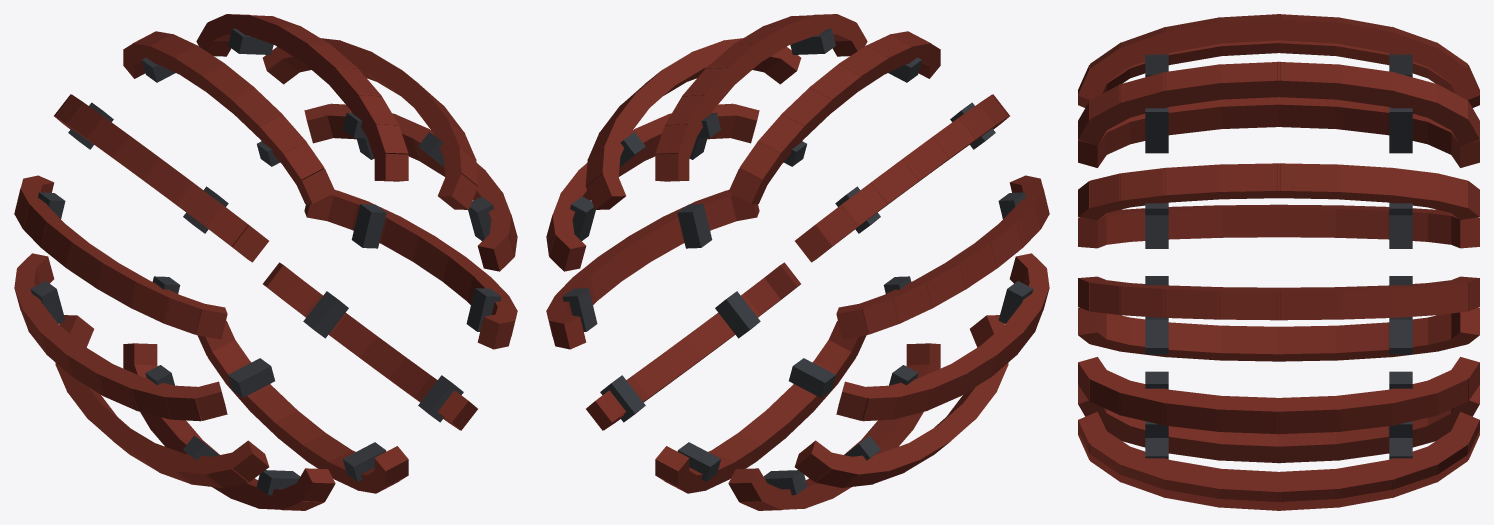
The model's file is th_tf_coils.obj.
3 views of the same model, side by side, from view 1: azimuth 30°, elevation 25°; view 2: azimuth 150°, elevation 25°; view 3: azimuth 270°, elevation 25° (orthographic). The views are drawn at different scales.
Parts seen in each view (by area): view 1: th_tf_coils; view 2: th_tf_coils; view 3: th_tf_coils.
Part boxes in pixels (x1=…): th_tf_coils: x1=14, y1=14, x2=517, y2=510; th_tf_coils: x1=546, y1=14, x2=1049, y2=510; th_tf_coils: x1=1078, y1=14, x2=1479, y2=510.
Bounding box in the file's own units: 5.03 × 5.03 × 4.12.
